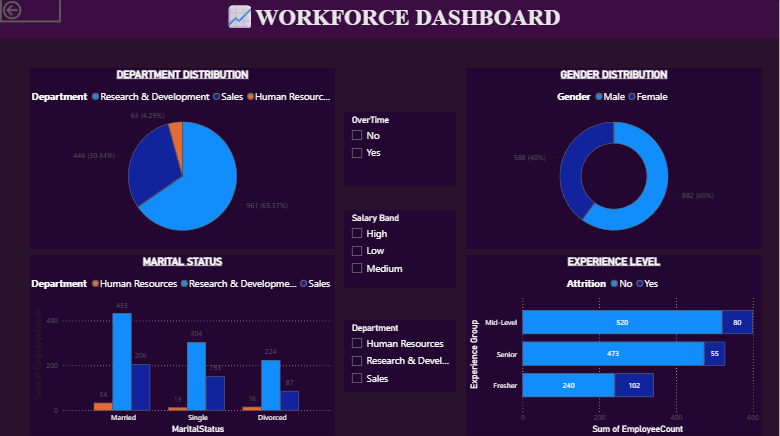

This screenshot's page, from the dashboard's own definition file:
{"tool":"powerbi","page":{"name":" Page 4","canvas":[1280,720],"ordinal":3},"visuals":[{"type":"textbox","box":[0,0,1280,67.2],"z":0},{"type":"actionButton","box":[0,0,100,40],"z":1000},{"type":"actionButton","box":[0,0,100,40],"z":2000},{"type":"pieChart","title":"DEPARTMENT DISTRIBUTION","fields":{"Category":["IBM HR xls.Department"],"Y":["Sum(IBM HR xls.EmployeeCount)"]},"box":[49.3,115,501.2,297.4],"z":3000},{"type":"donutChart","title":"GENDER DISTRIBUTION","fields":{"Category":["IBM HR xls.Gender"],"Y":["Sum(IBM HR xls.EmployeeCount)"]},"box":[765.7,115,486.4,297.4],"z":4000},{"type":"clusteredColumnChart","title":"MARITAL STATUS ","fields":{"Series":["IBM HR xls.Department"],"Category":["IBM HR xls.MaritalStatus"],"Y":["Sum(IBM HR xls.EmployeeCount)"]},"box":[49.3,422.3,501.2,297.4],"z":5000},{"type":"barChart","title":"EXPERIENCE LEVEL","fields":{"Category":["IBM HR xls.Experience Group"],"Y":["Sum(IBM HR xls.EmployeeCount)"],"Series":["IBM HR xls.Attrition"]},"box":[765.7,422.3,486.4,297.4],"z":6000},{"type":"slicer","fields":{"Values":["IBM HR xls.Department"]},"box":[565.2,529.1,184,118.3],"z":7000},{"type":"slicer","fields":{"Values":["IBM HR xls.Salary Band"]},"box":[565.2,348.3,184,128.2],"z":8000},{"type":"slicer","fields":{"Values":["IBM HR xls.OverTime"]},"box":[565.2,187.3,184,121.6],"z":9000}]}

Visuals, with their boxes in screenshot pixels (x1, y1, x2, y2), scaled from the page's 1280x720 canvas onto the 780x436 screenshot:
textbox: <box>0,0,779,41</box>
actionButton: <box>0,0,61,24</box>
actionButton: <box>0,0,61,24</box>
"DEPARTMENT DISTRIBUTION" pieChart: <box>30,70,335,250</box>
"GENDER DISTRIBUTION" donutChart: <box>467,70,763,250</box>
"MARITAL STATUS " clusteredColumnChart: <box>30,256,335,435</box>
"EXPERIENCE LEVEL" barChart: <box>467,256,763,435</box>
slicer - IBM HR xls.Department: <box>344,320,457,392</box>
slicer - IBM HR xls.Salary Band: <box>344,211,457,289</box>
slicer - IBM HR xls.OverTime: <box>344,113,457,187</box>
